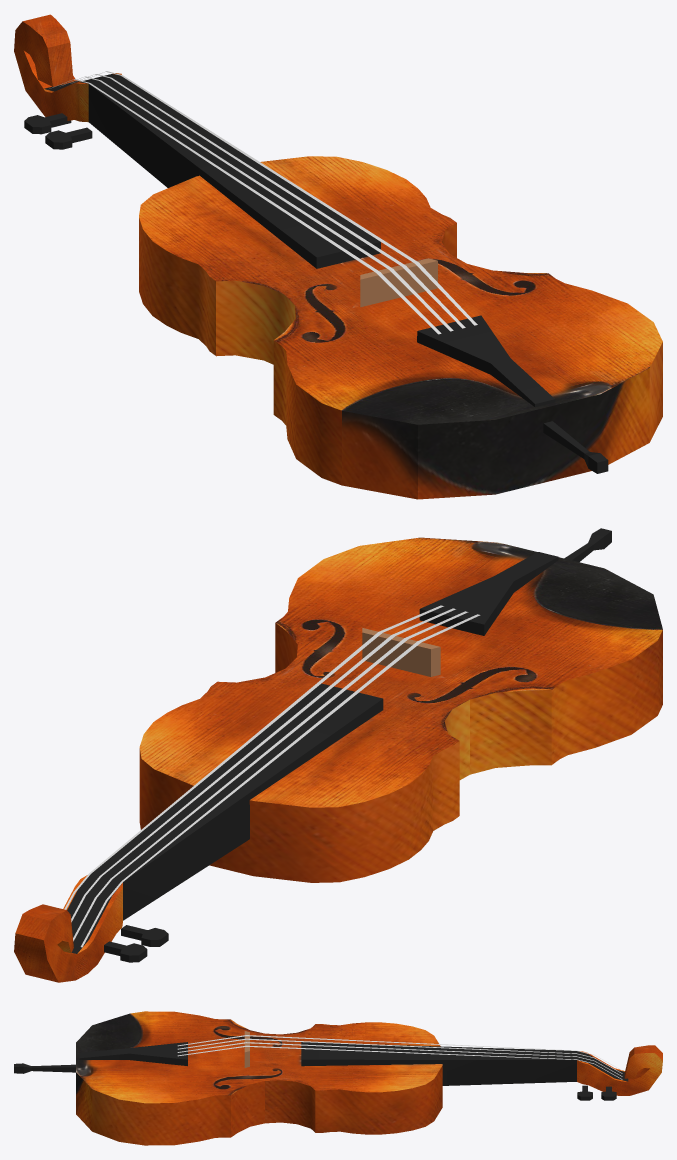
The model's file is cello.glb.
3 views of the same model, one above another, from view 1: azimuth 30°, elevation 25°; view 2: azimuth 150°, elevation 25°; view 3: azimuth 270°, elevation 25° (orthographic). The views are drawn at different scales.
Parts seen in each view (by area): view 1: cello, strings, Cube, pin.003; view 2: cello, strings, pin.003, Cube, pin.002; view 3: cello, strings, Cube.
Boxes of the visible parts, bbox=[...] form: cello: bbox=[14, 14, 662, 499]; strings: bbox=[49, 71, 477, 334]; Cube: bbox=[543, 421, 608, 473]; pin.003: bbox=[45, 127, 92, 149]; cello: bbox=[14, 537, 662, 982]; strings: bbox=[64, 605, 480, 947]; pin.003: bbox=[121, 925, 168, 946]; Cube: bbox=[564, 528, 611, 562]; pin.002: bbox=[104, 941, 147, 962]; cello: bbox=[76, 1011, 662, 1145]; strings: bbox=[177, 1035, 622, 1079]; Cube: bbox=[14, 1063, 75, 1073].
Size of the model in its own units: 1.58 by 0.4715 by 4.72.
Materials: 4 (1 with a texture image).
